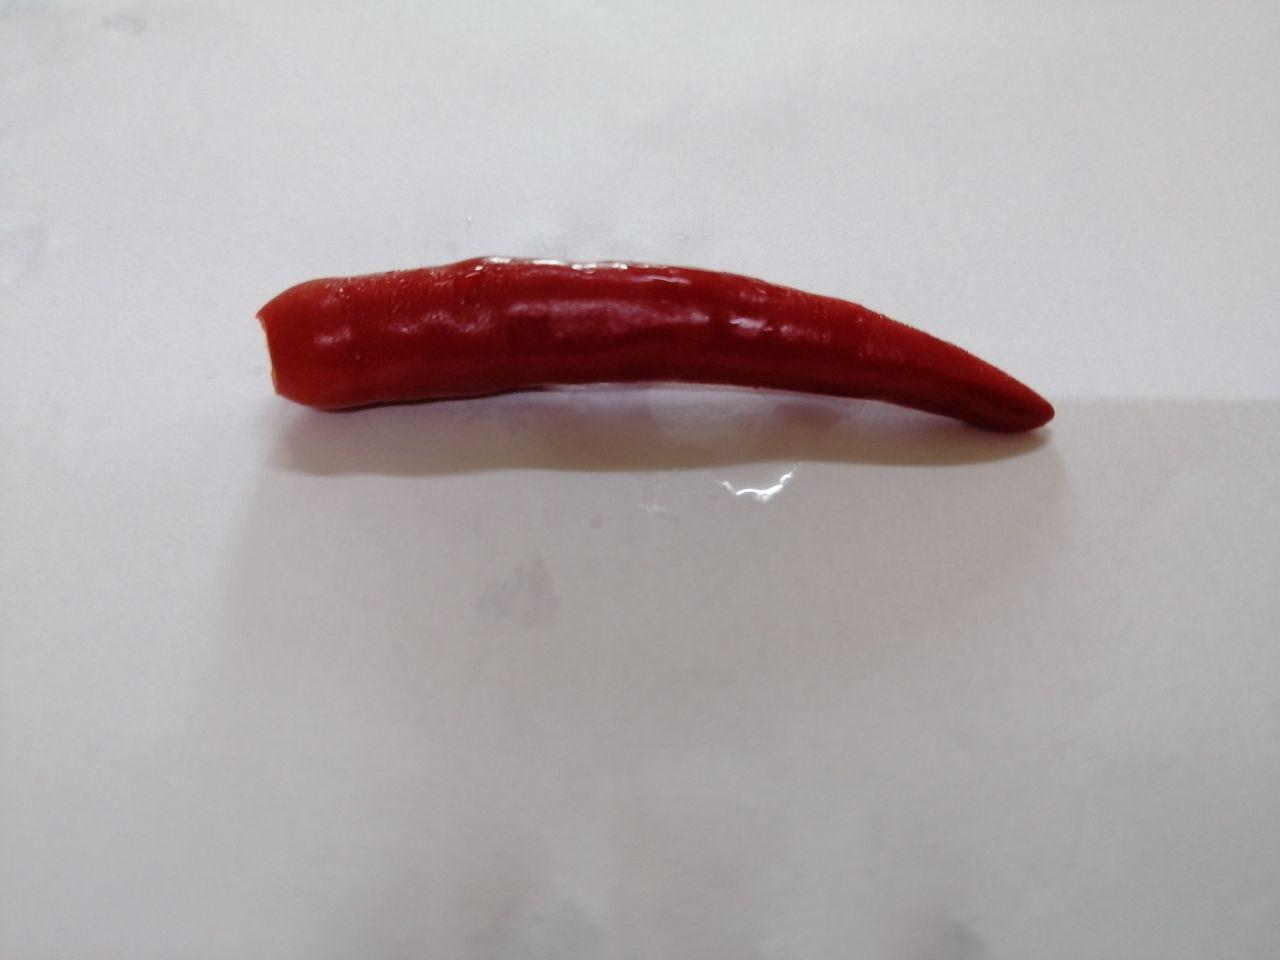lada merah: (225, 233, 1072, 494)
